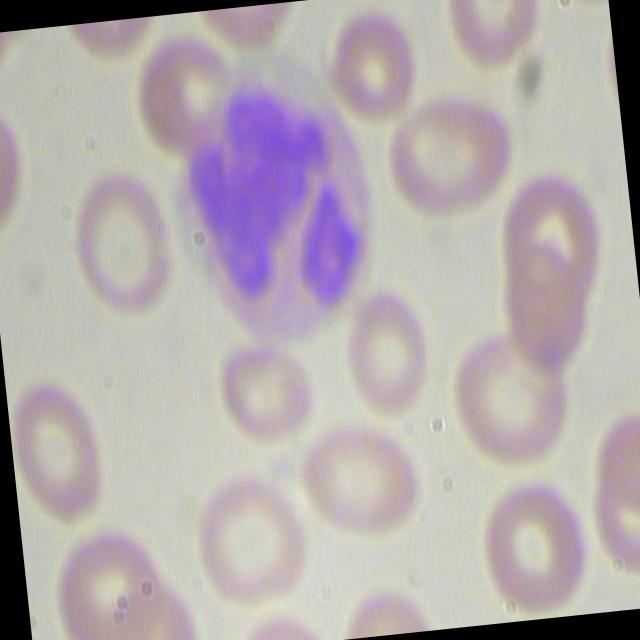RBC: (54, 154, 180, 330), (436, 318, 576, 468), (182, 465, 317, 612), (296, 404, 431, 550), (467, 472, 593, 624), (381, 92, 520, 218), (5, 370, 109, 536), (42, 519, 175, 640), (206, 328, 332, 450), (494, 166, 603, 304), (335, 274, 438, 420), (128, 20, 236, 159), (317, 0, 426, 134), (438, 0, 545, 86)
WBC: (159, 51, 396, 366)
